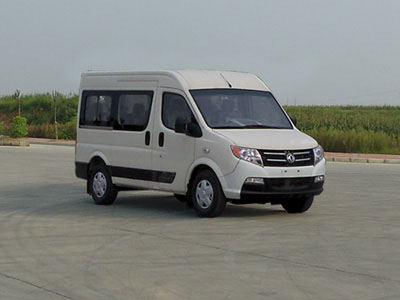midcar: (76, 60, 331, 229)
